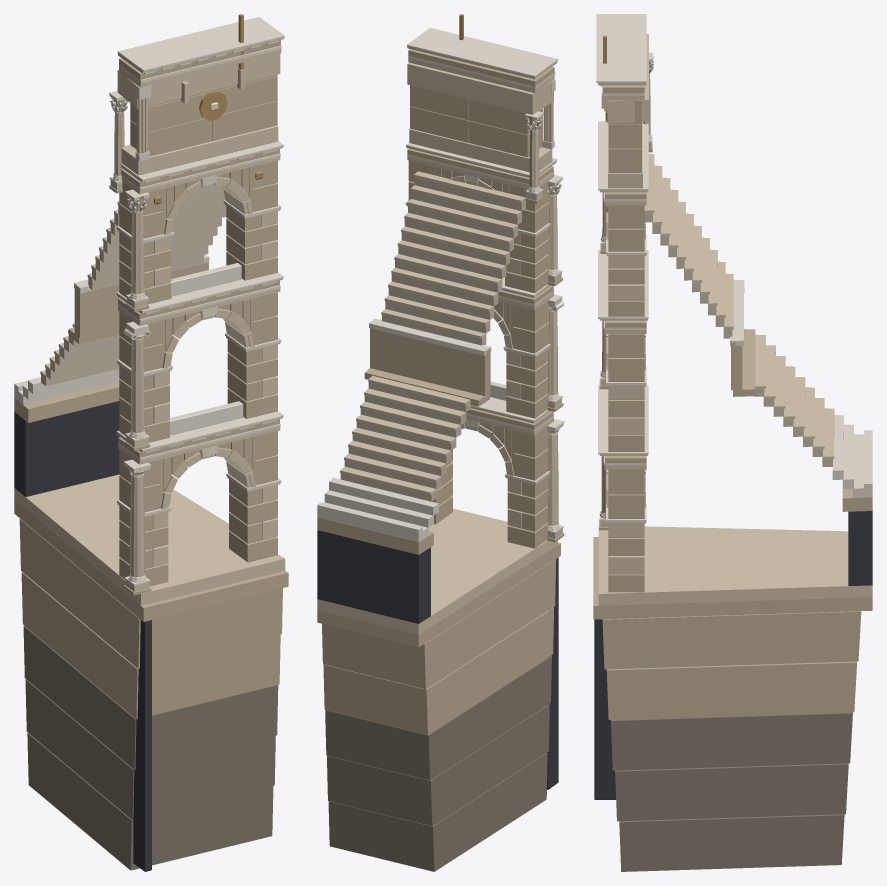
The model's file is UMOD_02_Standard_Clipeus_Bay.glb.
The picture shows the model from 3 angles, left to right: view 1: azimuth 30°, elevation 25°; view 2: azimuth 150°, elevation 25°; view 3: azimuth 270°, elevation 25°; orthographic projection. The views are drawn at different scales.
Visible parts, largest first — view 1: UMOD_02_Standard_Clipeus_Bay; view 2: UMOD_02_Standard_Clipeus_Bay; view 3: UMOD_02_Standard_Clipeus_Bay.
Boxes of the visible parts, x1,y1,x2,y2 form: UMOD_02_Standard_Clipeus_Bay: (14,14,288,871); UMOD_02_Standard_Clipeus_Bay: (317,14,564,871); UMOD_02_Standard_Clipeus_Bay: (593,14,872,871).
Bounding box in the file's own units: 18.47 × 96.54 × 29.95.
